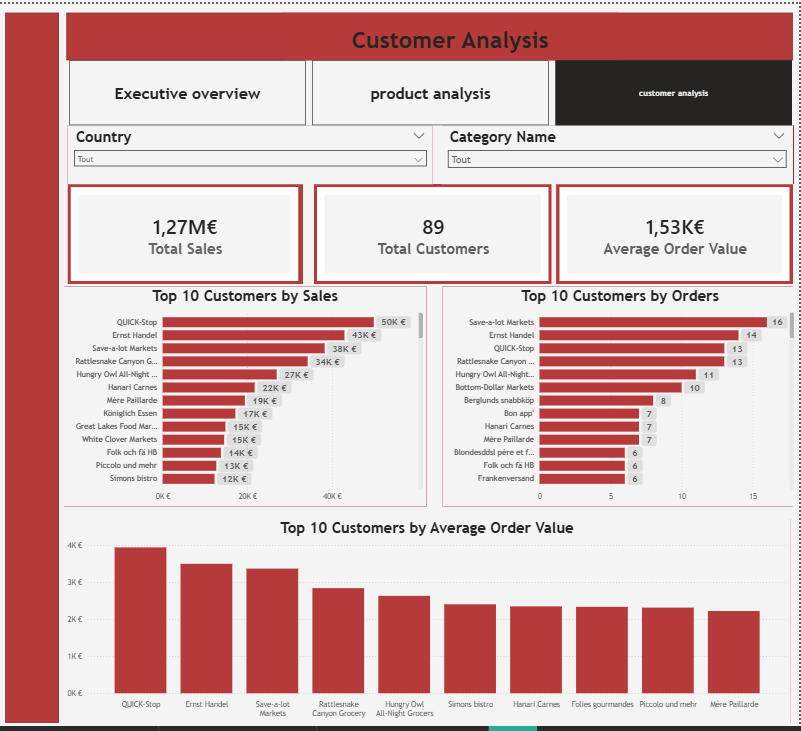

The page's visual inventory and layout, read from the dashboard file:
{"tool":"powerbi","page":{"name":"customer analysis","canvas":[1280,1200],"ordinal":2},"visuals":[{"type":"shape","box":[108,14,1162,76],"z":0},{"type":"shape","box":[10,14,86,1136],"z":1000},{"type":"shape","box":[112,288,374,160],"z":2000},{"type":"shape","box":[504,288,378,160],"z":3000},{"type":"shape","box":[892,288,378,160],"z":4000},{"type":"textbox","box":[454,14,536,76],"z":5000},{"type":"shape","box":[104,452,580,352],"z":6000},{"type":"shape","box":[710,452,560,352],"z":7000},{"type":"shape","box":[104,824,1162,326],"z":8000},{"type":"cardVisual","fields":{"Data":["Measures_Table.Total Sales"]},"box":[110,288,374,160],"z":9000},{"type":"cardVisual","fields":{"Data":["Measures_Table.Total Customers"]},"box":[504,288,380,160],"z":10000},{"type":"cardVisual","fields":{"Data":["Measures_Table.Average Order Value"]},"box":[892,288,378,160],"z":11000},{"type":"clusteredBarChart","title":"Top 10 Customers by Sales","fields":{"Y":["Measures_Table.Total Sales"],"Category":["vw_dim_customer.CompanyName"]},"box":[104,452,580,352],"z":12000},{"type":"clusteredBarChart","title":"Top 10 Customers by Orders","fields":{"Category":["vw_dim_customer.CompanyName"],"Y":["Measures_Table.Total Orders"]},"box":[710,452,568,352],"z":13000},{"type":"shape","box":[110,194,584,94],"z":14000},{"type":"slicer","fields":{"Values":["vw_dim_customer.Country"]},"box":[110,194,584,94],"z":15000},{"type":"shape","box":[710,194,562,94],"z":16000},{"type":"slicer","fields":{"Values":["vw_dim_product.CategoryName"]},"box":[708,194,562,94],"z":17000},{"type":"clusteredColumnChart","title":"Top 10 Customers by Average Order Value","fields":{"Category":["vw_dim_customer.CompanyName"],"Y":["Measures_Table.Average Order Value"]},"box":[104,824,1162,326],"z":18000},{"type":"pageNavigator","box":[112,90,1158,104],"z":19000}]}

Visuals, with their boxes in screenshot pixels (x1, y1, x2, y2), scaled from the page's 1280x1200 canvas onto the 801x731 screenshot:
shape: box=[68, 9, 795, 55]
shape: box=[6, 9, 60, 701]
shape: box=[70, 175, 304, 273]
shape: box=[315, 175, 552, 273]
shape: box=[558, 175, 795, 273]
textbox: box=[284, 9, 620, 55]
shape: box=[65, 275, 428, 490]
shape: box=[444, 275, 795, 490]
shape: box=[65, 502, 792, 701]
cardVisual - Measures_Table.Total Sales: box=[69, 175, 303, 273]
cardVisual - Measures_Table.Total Customers: box=[315, 175, 553, 273]
cardVisual - Measures_Table.Average Order Value: box=[558, 175, 795, 273]
"Top 10 Customers by Sales" clusteredBarChart: box=[65, 275, 428, 490]
"Top 10 Customers by Orders" clusteredBarChart: box=[444, 275, 800, 490]
shape: box=[69, 118, 434, 175]
slicer - vw_dim_customer.Country: box=[69, 118, 434, 175]
shape: box=[444, 118, 796, 175]
slicer - vw_dim_product.CategoryName: box=[443, 118, 795, 175]
"Top 10 Customers by Average Order Value" clusteredColumnChart: box=[65, 502, 792, 701]
pageNavigator: box=[70, 55, 795, 118]
